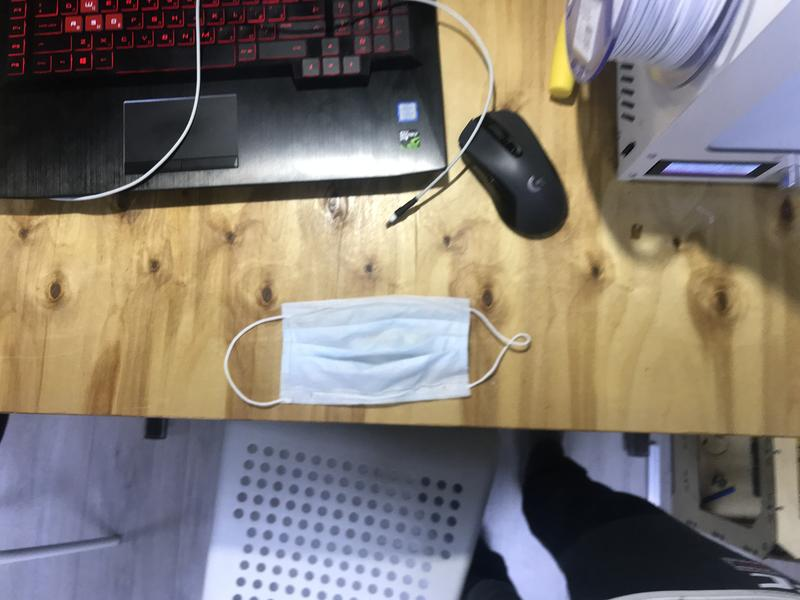medical_mask: (223, 295, 530, 406)
